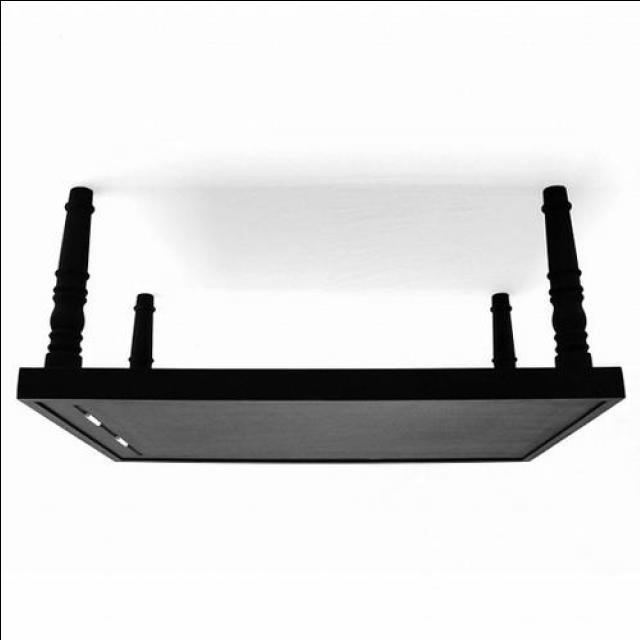table: (21, 183, 624, 468)
